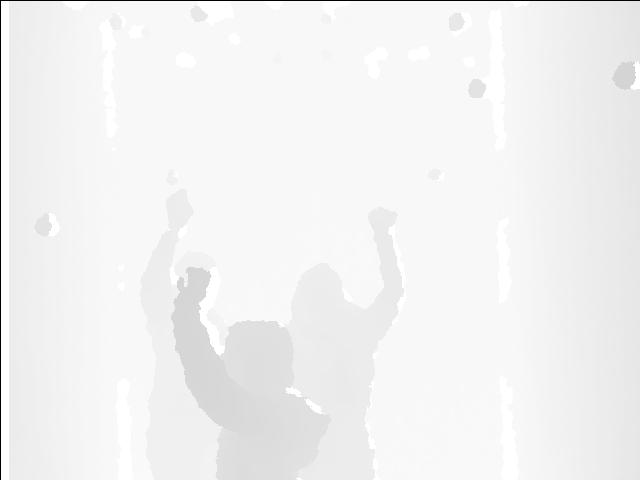hand: (172, 264, 212, 310), (164, 188, 196, 231), (368, 204, 398, 238)
